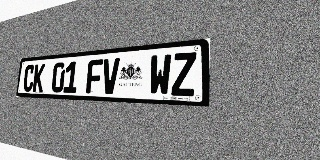0: (51, 62, 66, 93)
1: (63, 61, 79, 93)
C: (23, 64, 35, 92)
F: (86, 59, 103, 94)
K: (32, 64, 45, 92)
V: (101, 58, 120, 94)
W: (149, 54, 172, 96)
Z: (171, 52, 196, 96)
